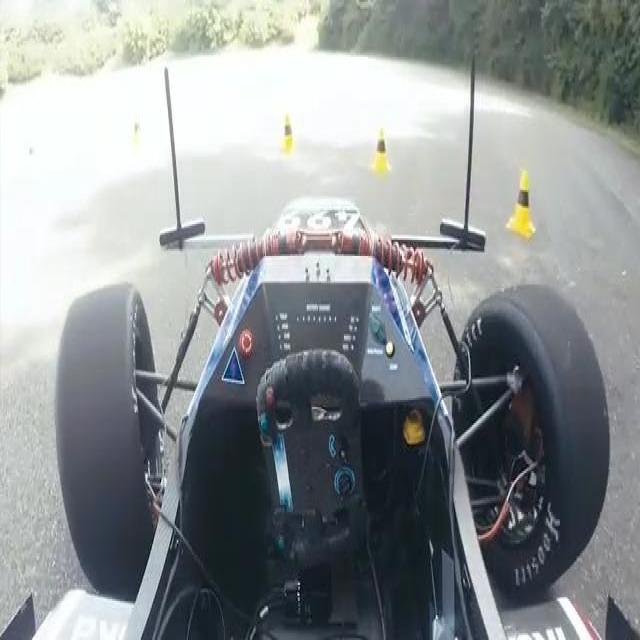yellow_cone: (506, 156, 536, 234), (371, 128, 390, 176), (278, 114, 295, 154), (131, 119, 146, 161)
